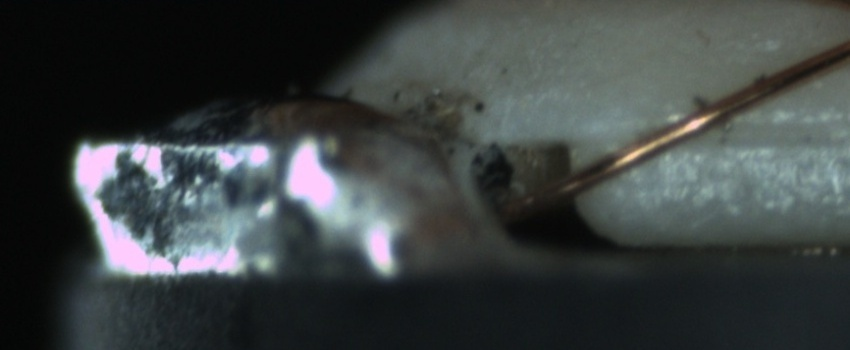DL: (639, 98, 850, 161)
